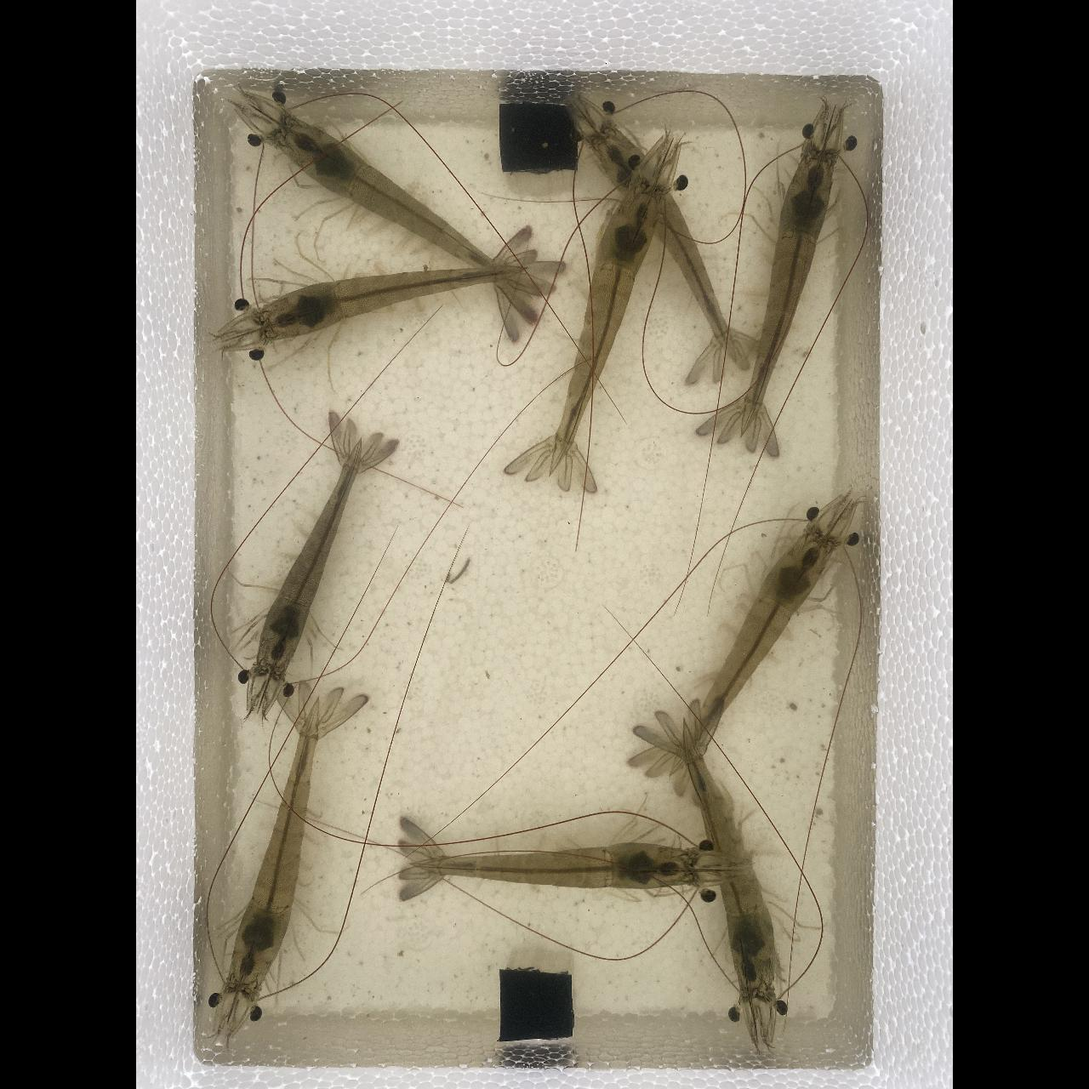box: (500, 100, 582, 172), (500, 968, 573, 1040)
top_shrimp: (277, 119, 526, 289), (588, 126, 737, 365), (553, 184, 663, 473), (687, 534, 832, 747), (681, 723, 778, 995), (231, 695, 319, 990), (744, 151, 834, 429), (260, 448, 362, 674), (263, 267, 526, 338), (413, 844, 693, 888)
